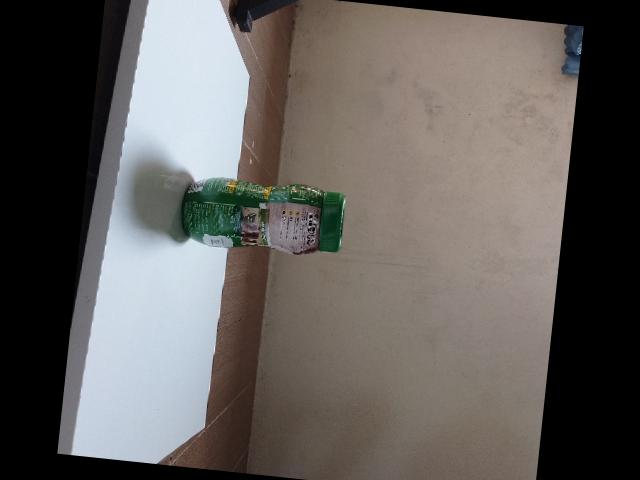milo: (179, 177, 344, 255)
